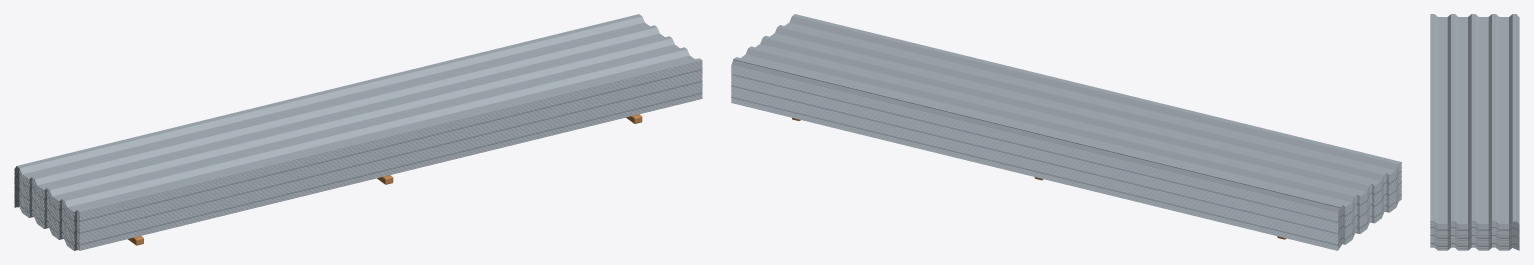
File: pilha_telhas.glb
The picture shows the model from 3 angles, left to right: view 1: azimuth 30°, elevation 25°; view 2: azimuth 150°, elevation 25°; view 3: azimuth 270°, elevation 25°; orthographic projection. The views are drawn at different scales.
Visible parts, largest first — view 1: telha (×30); view 2: telha (×30); view 3: telha (×30).
Part boxes in pixels (x1,y1,x2,y2): telha (×30): [14, 14, 702, 250]; telha (×30): [731, 14, 1401, 250]; telha (×30): [1430, 14, 1519, 250].
Bounding box in the file's own units: 6 × 0.453 × 1.09.
